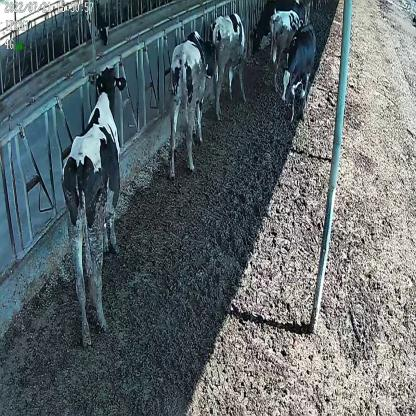cow: (62, 67, 128, 341), (166, 28, 214, 178), (209, 10, 247, 111), (281, 25, 316, 126)
